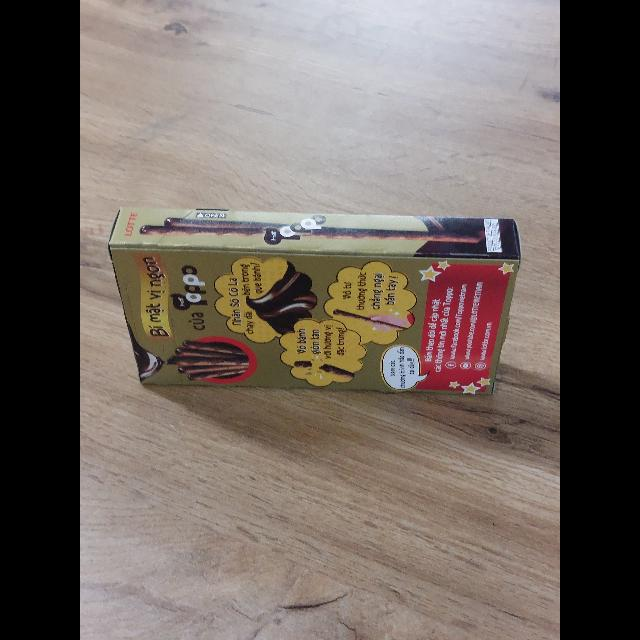banh_toppo_socola: (107, 206, 522, 397)
